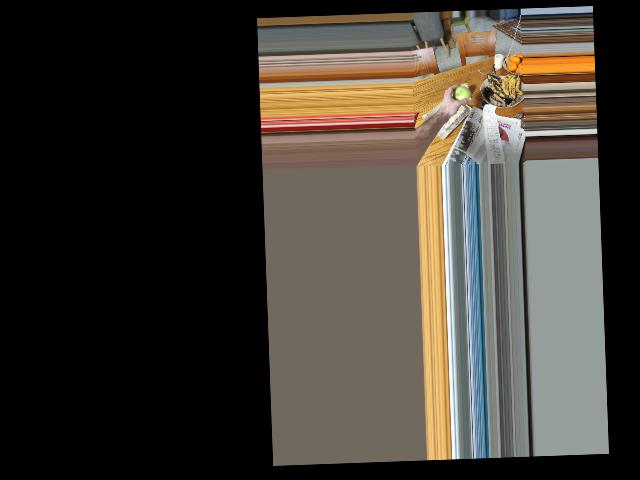apple: (448, 84, 471, 103)
